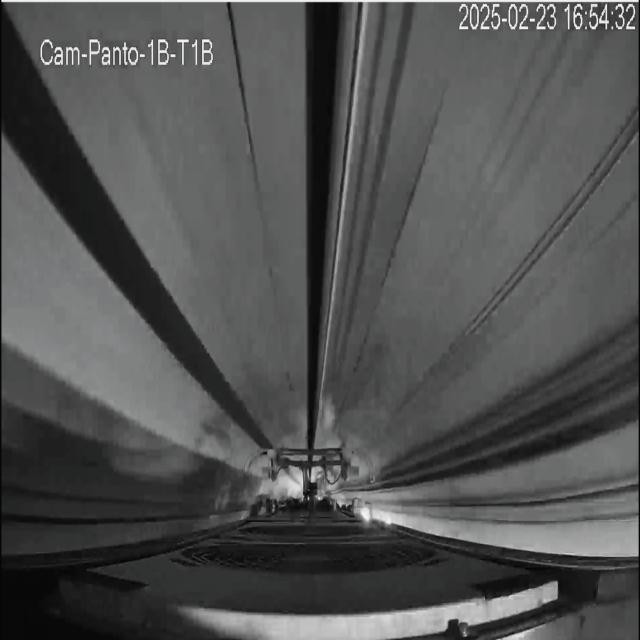Camera Stamp: (31, 24, 221, 72)
Date Stamp: (459, 3, 636, 33)
No - Spark: (254, 442, 361, 514)
